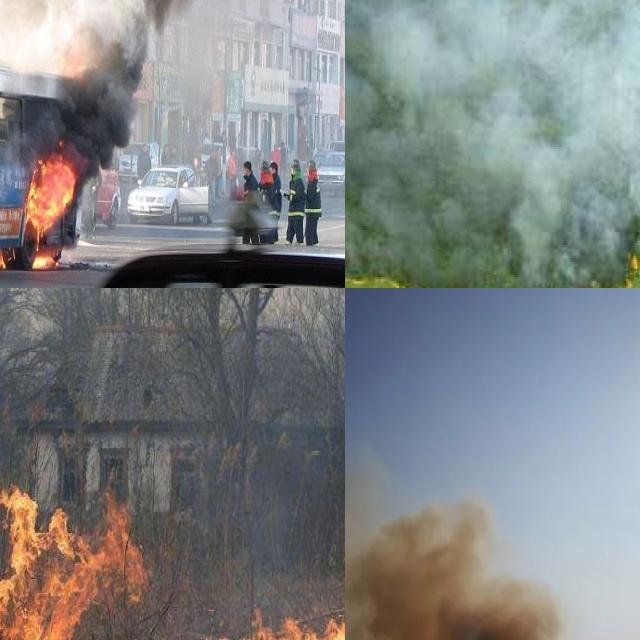fire: (0, 485, 149, 640), (184, 584, 345, 640), (19, 152, 89, 271)
smoke: (345, 330, 640, 640), (345, 0, 640, 285), (0, 0, 268, 142)
